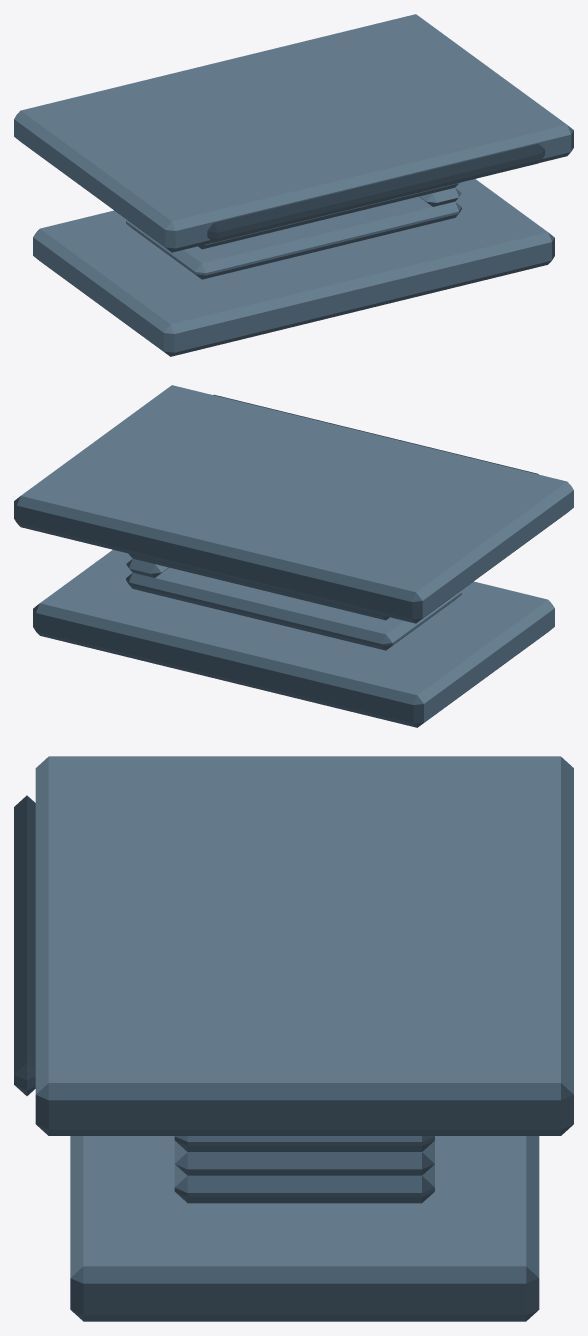
The model's file is Spring_Off.gltf.
3 renders of one model, top to bottom at view 1: azimuth 30°, elevation 25°; view 2: azimuth 150°, elevation 25°; view 3: azimuth 270°, elevation 25°, orthographic. The views are drawn at different scales.
Parts seen in each view (by area): view 1: Spring_Off_baked; view 2: Spring_Off_baked; view 3: Spring_Off_baked.
Part boxes in pixels (<box>): Spring_Off_baked: <box>14,14,573,356</box>; Spring_Off_baked: <box>14,385,573,727</box>; Spring_Off_baked: <box>14,756,573,1321</box>.
Size of the model in its own units: 0.92 by 0.3125 by 0.645.
